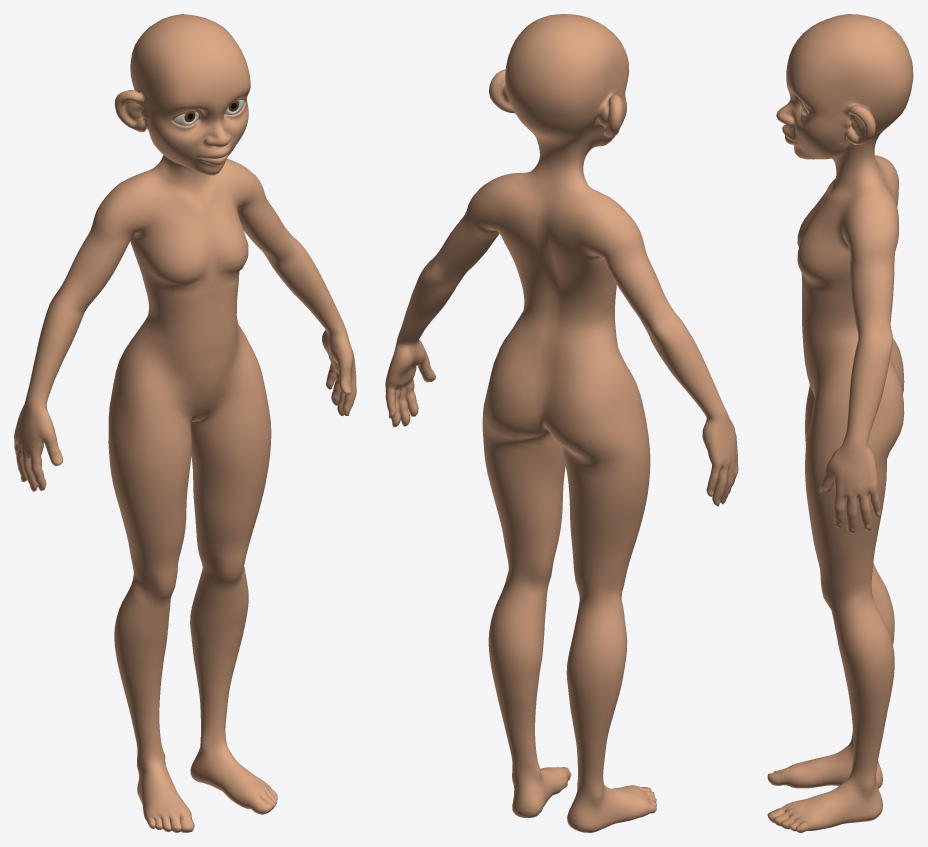
File: bodyFemale-stylized.glb
3 renders of one model, left to right at view 1: azimuth 30°, elevation 25°; view 2: azimuth 150°, elevation 25°; view 3: azimuth 270°, elevation 25°, orthographic. The views are drawn at different scales.
Parts seen in each view (by area): view 1: GEO-body_female_stylized-torso, GEO-body_female_stylized-left_leg, GEO-body_female_stylized-right_leg, GEO-body_female_stylized-head, GEO-body_female_stylized-right_arm, GEO-body_female_stylized-left_arm; view 2: GEO-body_female_stylized-torso, GEO-body_female_stylized-right_leg, GEO-body_female_stylized-left_leg, GEO-body_female_stylized-head, GEO-body_female_stylized-right_arm, GEO-body_female_stylized-left_arm; view 3: GEO-body_female_stylized-torso, GEO-body_female_stylized-left_leg, GEO-body_female_stylized-head, GEO-body_female_stylized-left_arm, GEO-body_female_stylized-right_leg.
Part boxes in pixels (x1,y1,x2,y2): GEO-body_female_stylized-torso: [95, 155, 276, 471]; GEO-body_female_stylized-left_leg: [190, 436, 277, 814]; GEO-body_female_stylized-right_leg: [109, 454, 194, 832]; GEO-body_female_stylized-head: [114, 14, 250, 168]; GEO-body_female_stylized-right_arm: [14, 205, 111, 491]; GEO-body_female_stylized-left_arm: [256, 176, 356, 415]; GEO-body_female_stylized-torso: [454, 149, 650, 478]; GEO-body_female_stylized-right_leg: [565, 461, 656, 832]; GEO-body_female_stylized-left_leg: [483, 441, 571, 817]; GEO-body_female_stylized-head: [489, 14, 629, 158]; GEO-body_female_stylized-right_arm: [622, 224, 738, 506]; GEO-body_female_stylized-left_arm: [385, 195, 474, 427]; GEO-body_female_stylized-torso: [794, 146, 904, 479]; GEO-body_female_stylized-left_leg: [767, 468, 894, 832]; GEO-body_female_stylized-head: [776, 14, 913, 158]; GEO-body_female_stylized-left_arm: [817, 233, 893, 533]; GEO-body_female_stylized-right_leg: [767, 428, 894, 788].
Size of the model in its own units: 0.7209 by 1.62 by 0.2732.
